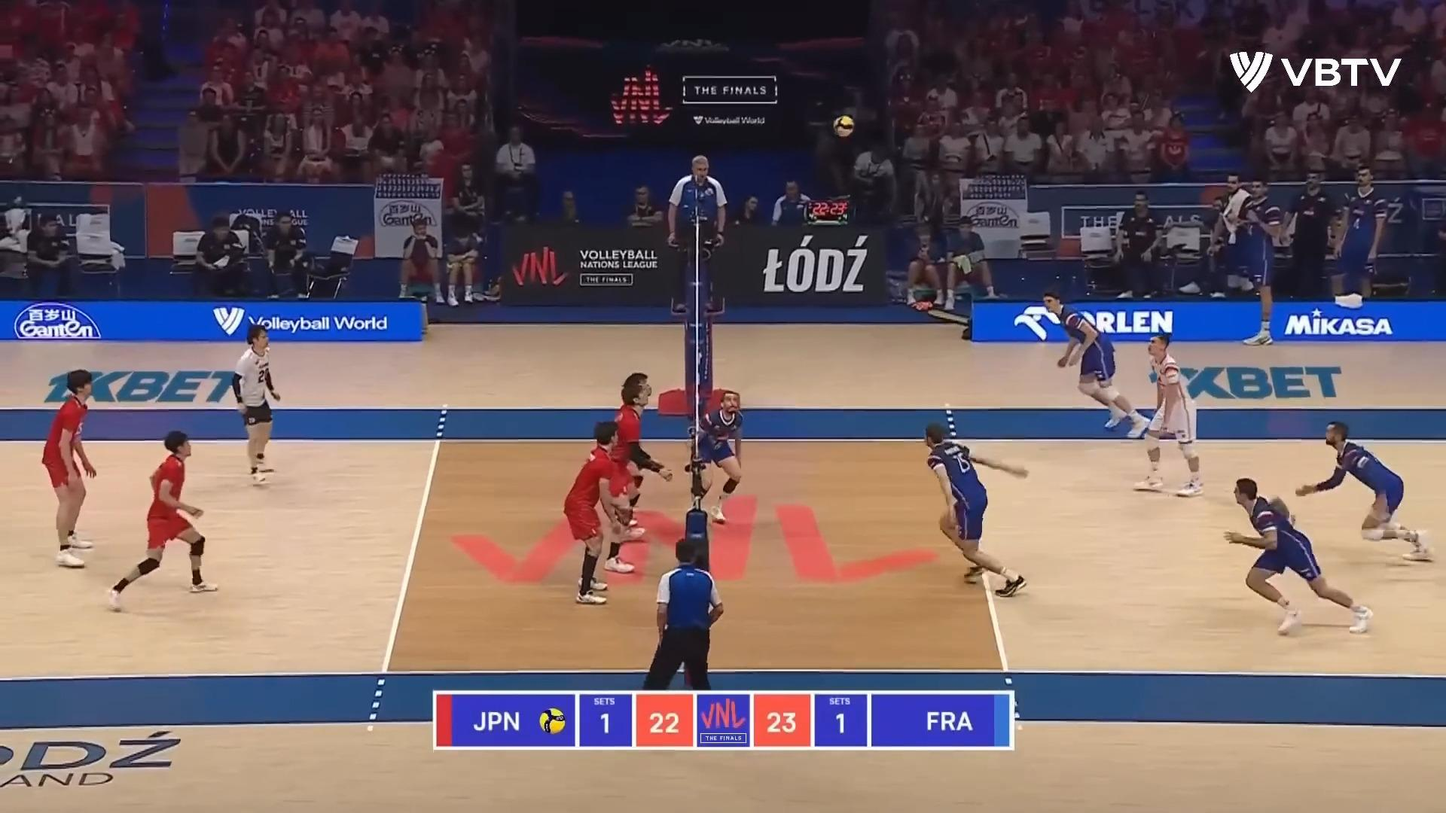ball: (832, 115, 856, 137)
